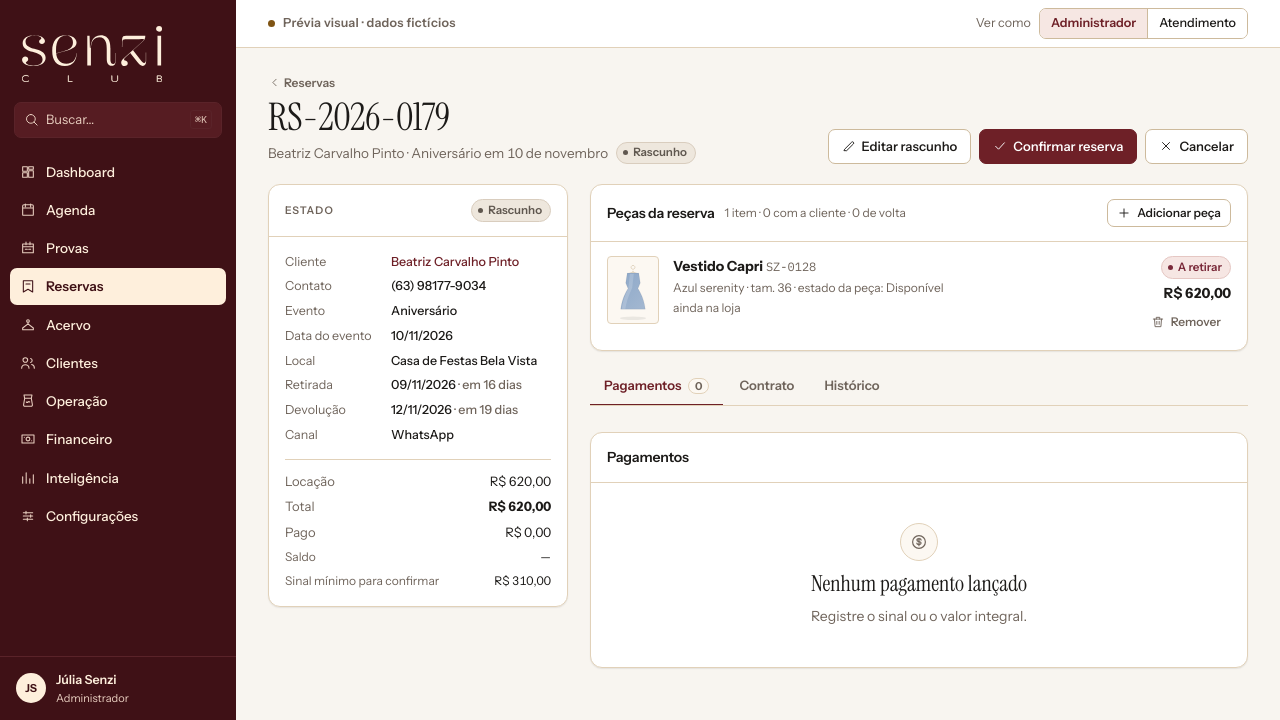
Reservas — ficha › sinal abaixo do mínimo troca o botão para "Dispensar sinal mínimo e confirmar"
Click the button "Confirmar reserva". click: (1058, 146)
box: [979,129,1137,164]
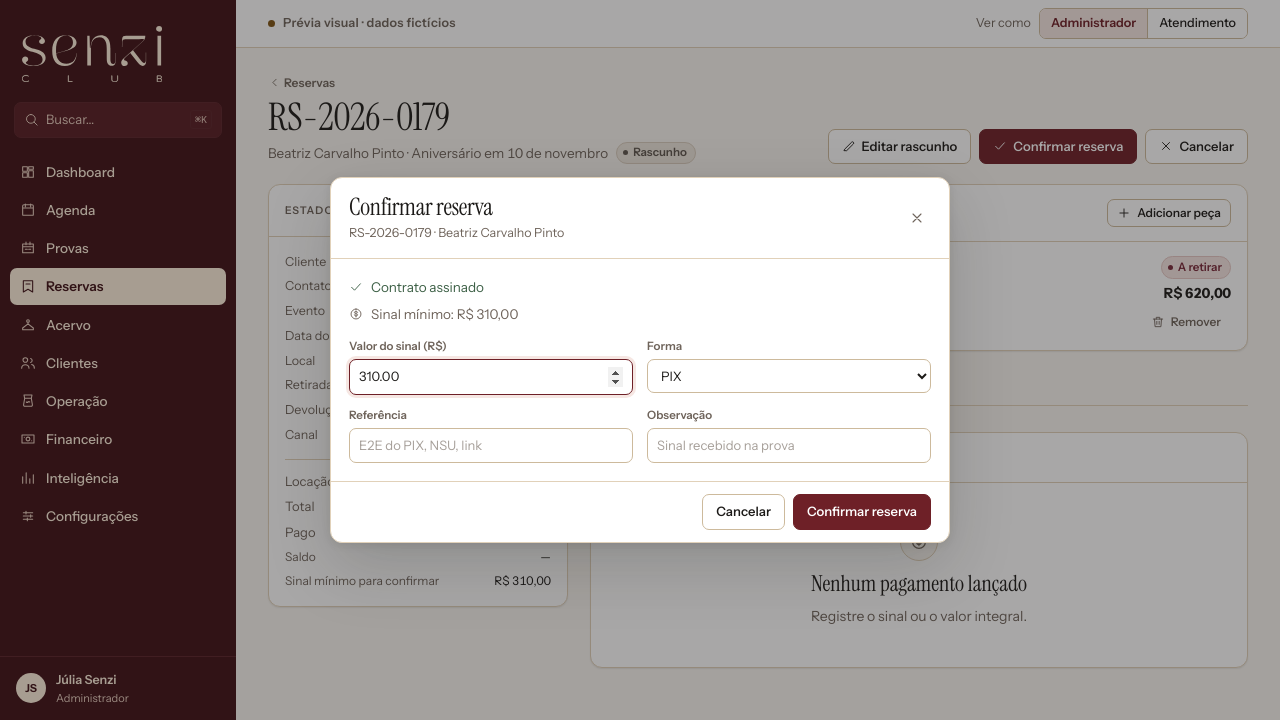
Replace the text in the number field labelled "Valor do sinal (R$)" with "100". click: (491, 377)
box: [349,359,633,395]
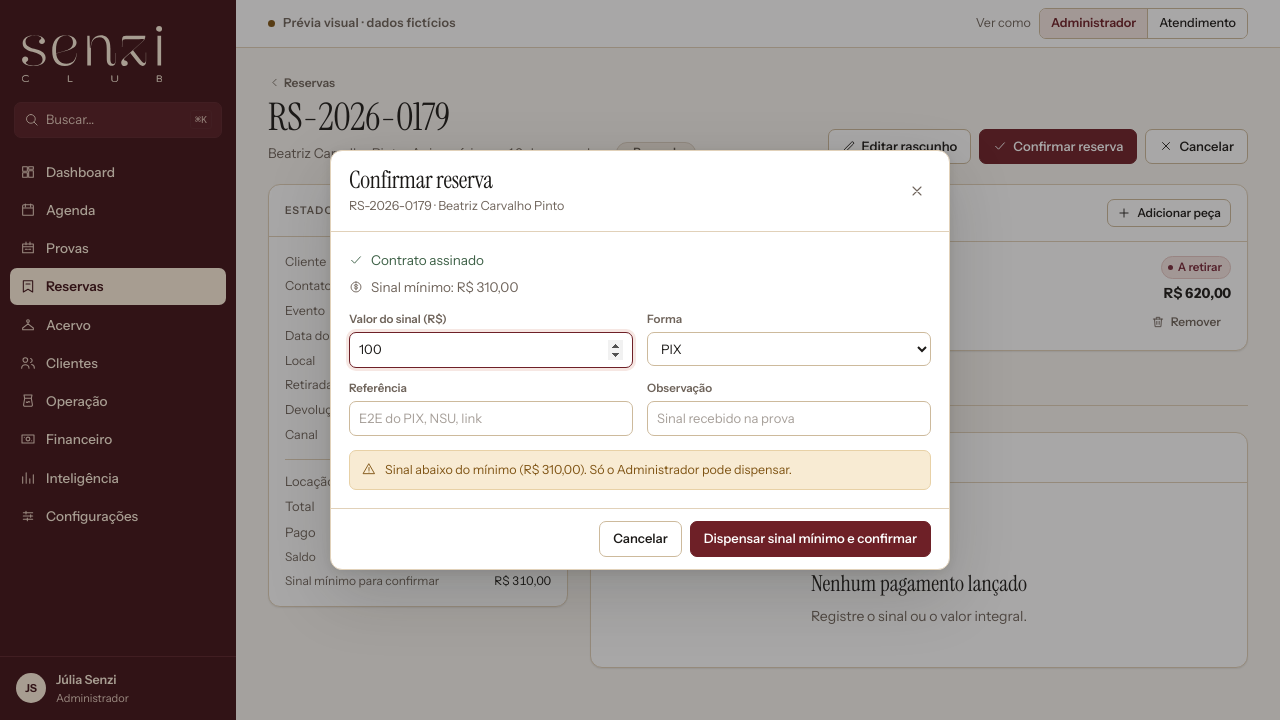
Result: the button "Dispensar sinal mínimo e confirmar" is shown at [690,521,931,557]
Result: the text "Sinal abaixo do mínimo" is shown at [385,462,524,477]
